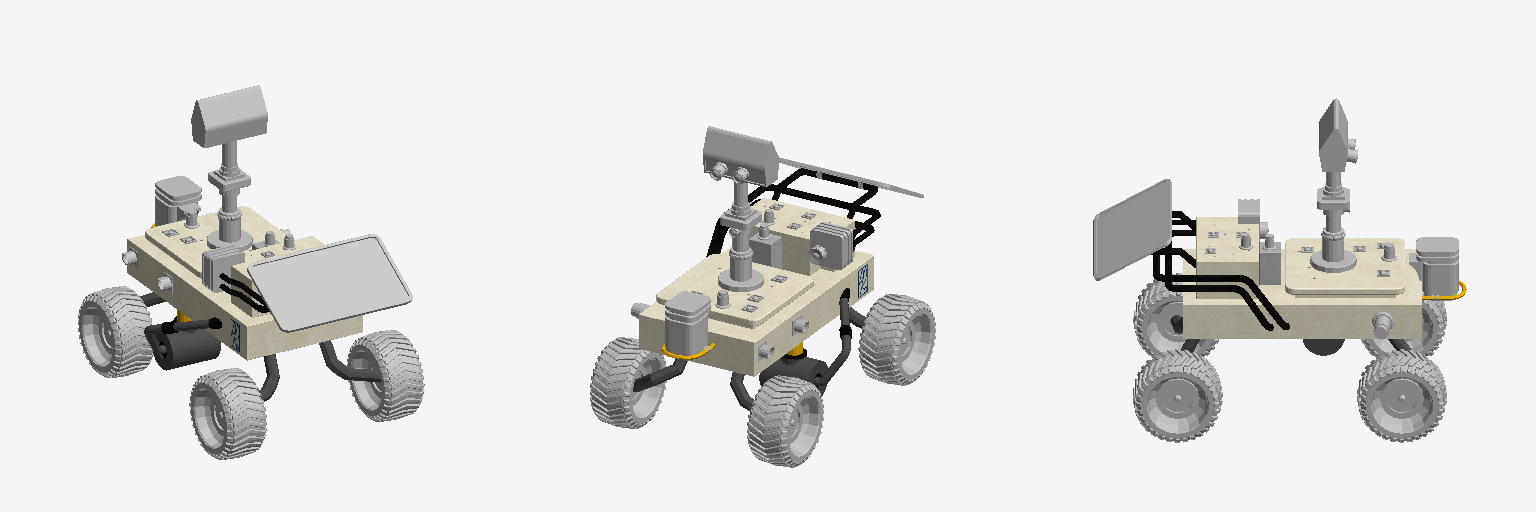
3 renders of one model, left to right at view 1: azimuth 30°, elevation 25°; view 2: azimuth 150°, elevation 25°; view 3: azimuth 270°, elevation 25°, orthographic.
Parts seen in each view (by area): view 1: Rover_additional_objects, Rover_mainbody, Rober_decals, Back_Wheel_Left, Front_Wheel_Left, Pipes, Back_Wheel_Right; view 2: Rover_mainbody, Rober_decals, Pipes, Back_Wheel_Left, Front_Wheel_Left, Rover_additional_objects, Front_Wheel_Right; view 3: Rover_mainbody, Rover_additional_objects, Back_Wheel_Right, Front_Wheel_Right, Rober_decals, Pipes, Back_Wheel_Left, Front_Wheel_Left.
Boxes of the visible parts, box(x1,y1,x2,y2) form: Rover_additional_objects: box(155, 176, 412, 332); Rover_mainbody: box(127, 206, 362, 360); Rober_decals: box(122, 85, 295, 293); Back_Wheel_Left: box(189, 368, 266, 459); Front_Wheel_Left: box(78, 286, 153, 377); Pipes: box(140, 223, 380, 401); Back_Wheel_Right: box(347, 330, 424, 421); Rover_mainbody: box(639, 198, 873, 376); Rober_decals: box(631, 126, 815, 361); Pipes: box(633, 168, 880, 411); Back_Wheel_Left: box(858, 294, 935, 385); Front_Wheel_Left: box(747, 375, 823, 467); Rover_additional_objects: box(665, 157, 923, 359); Front_Wheel_Right: box(590, 337, 666, 428); Rover_mainbody: box(1183, 217, 1421, 338); Rover_additional_objects: box(1093, 179, 1458, 300); Back_Wheel_Right: box(1133, 349, 1222, 442); Front_Wheel_Right: box(1357, 349, 1446, 442); Rober_decals: box(1205, 98, 1396, 339); Pipes: box(1151, 211, 1466, 355); Back_Wheel_Left: box(1133, 273, 1218, 356); Front_Wheel_Left: box(1361, 291, 1446, 358).
Bounding box in the file's own units: 3.78 × 5.24 × 6.21.
5 materials, 2 textured.